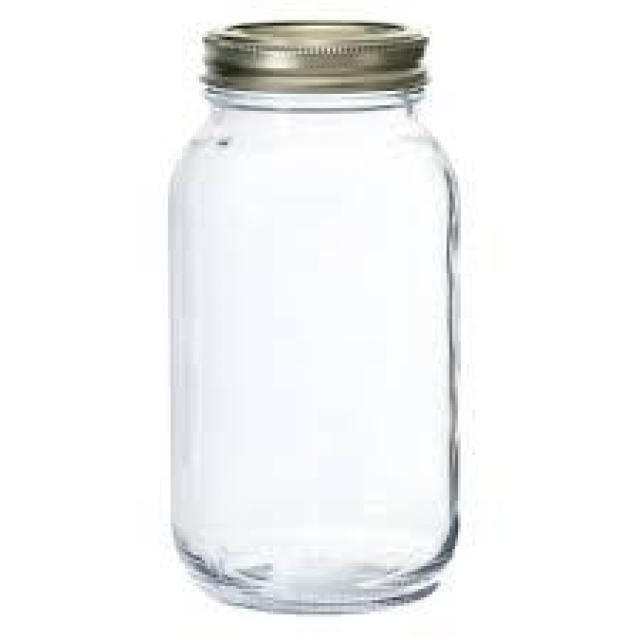glass: (160, 11, 466, 620)
